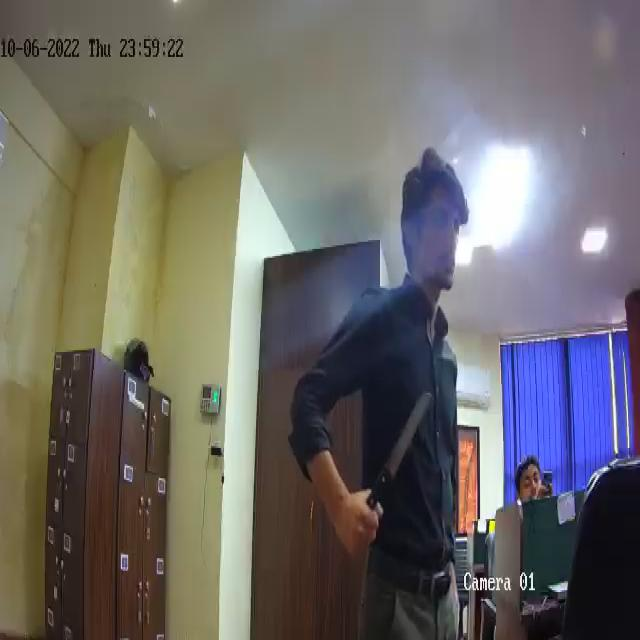Knife: (353, 384, 435, 558)
